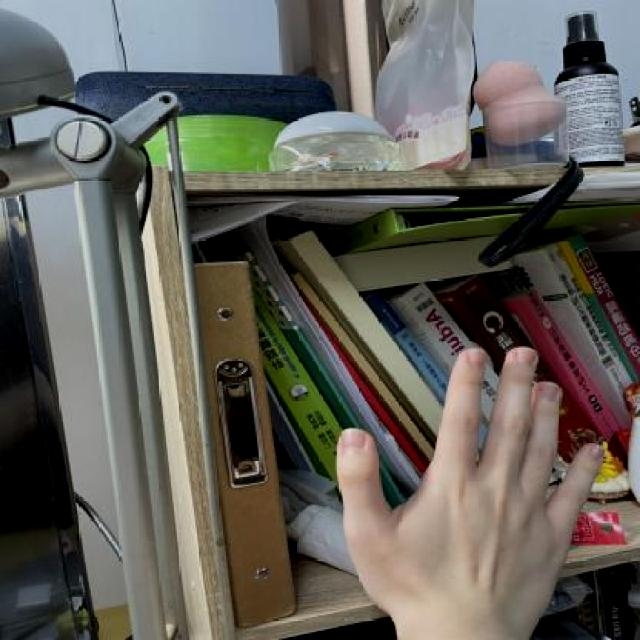no_glove: (326, 316, 619, 639)
